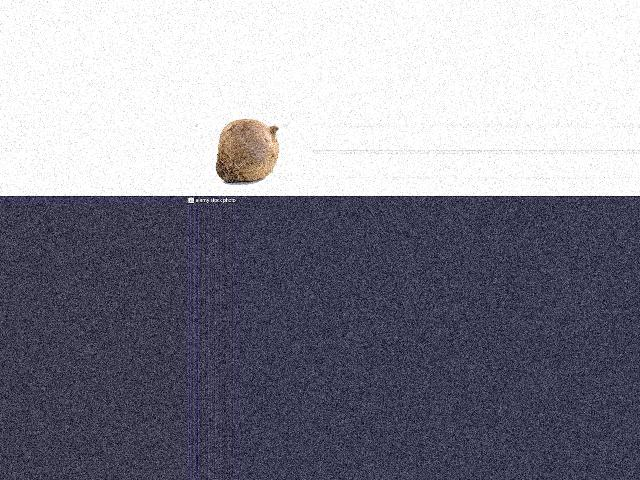beet: (216, 119, 279, 183)
